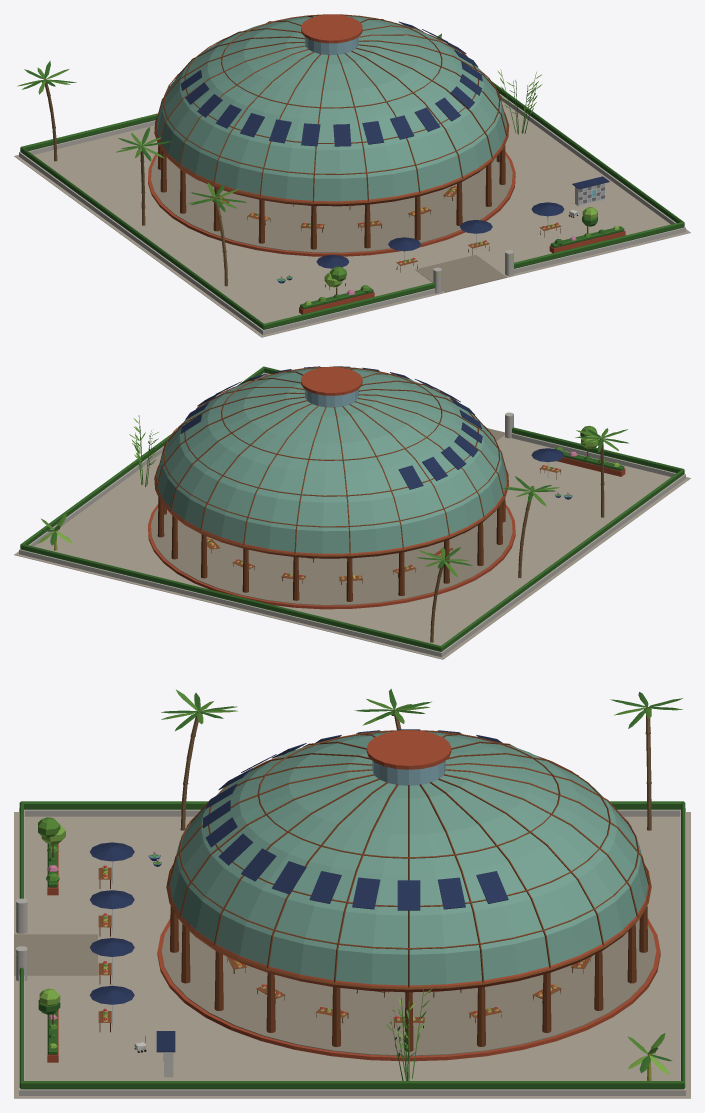
File: market.glb
3 views of the same model, one above another, from view 1: azimuth 30°, elevation 25°; view 2: azimuth 150°, elevation 25°; view 3: azimuth 270°, elevation 25° (orthographic). The views are drawn at different scales.
Parts seen in each view (by area): view 1: body; view 2: body; view 3: body.
Part boxes in pixels (x1,y1,x2,y2): body: [14, 14, 690, 337]; body: [14, 366, 690, 659]; body: [14, 688, 690, 1098].
Size of the model in its own units: 49.16 by 16.24 by 47.9.
